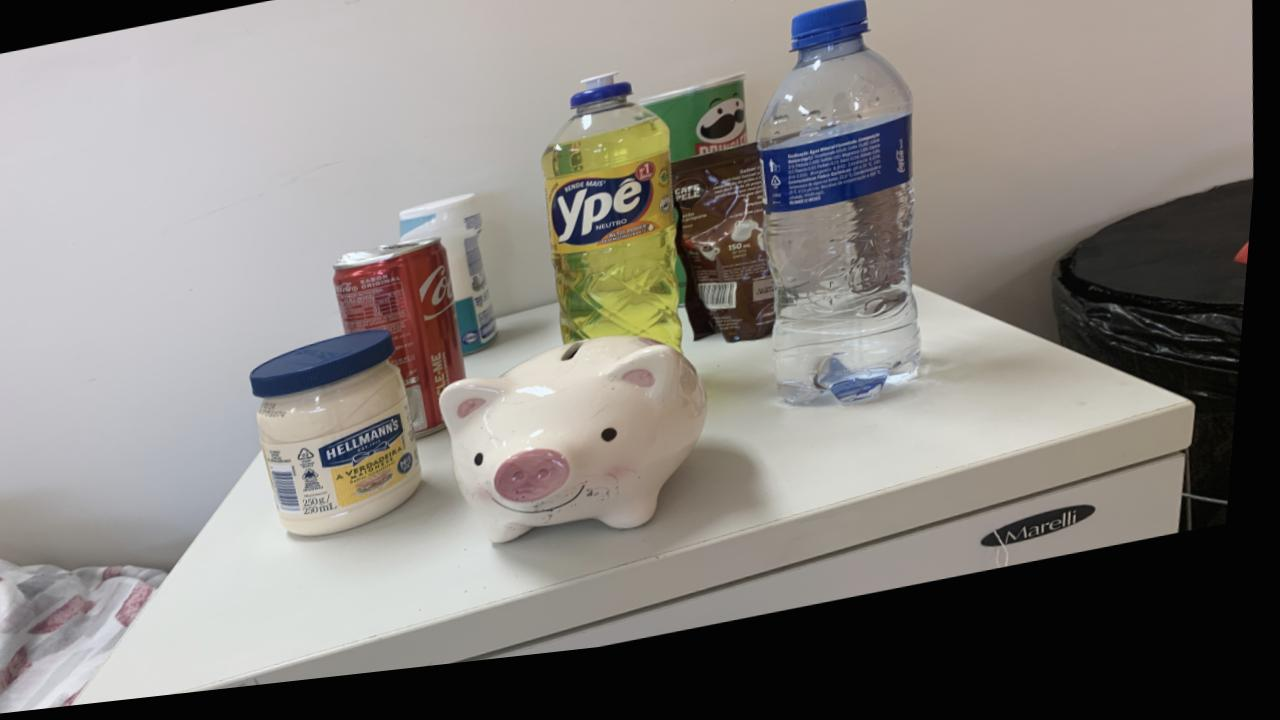Cleaner-Cleanup_Items: (404, 205, 502, 365)
Coffee-Pantry_Items: (674, 161, 781, 360)
Coke-Drinks: (340, 248, 471, 447)
Detergent-Cleanup_Items: (546, 88, 689, 365)
Mayonnaise-Pantry_Items: (257, 339, 430, 545)
Pig_Safe-Miscellaneous: (448, 351, 715, 556)
Pringles-Snacks: (645, 91, 752, 178), (679, 276, 693, 323)
Water_Bottle-Drinks: (762, 20, 928, 425)
